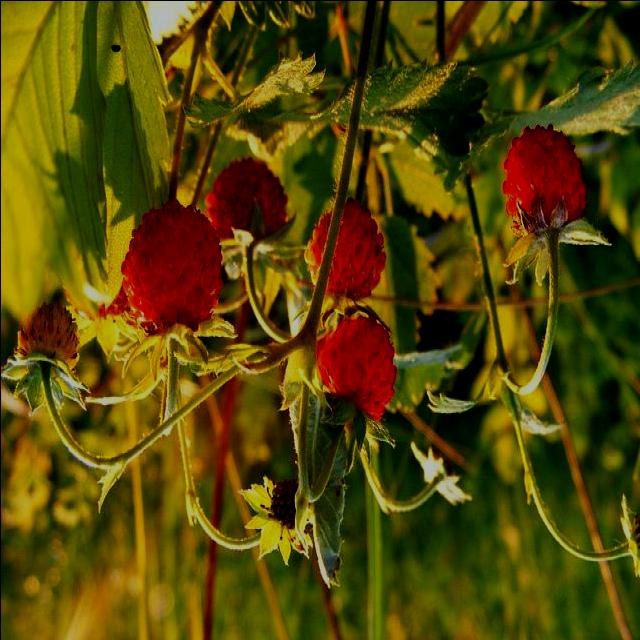ripe: (119, 195, 227, 343), (486, 109, 594, 256), (309, 306, 403, 429), (302, 198, 389, 310), (204, 166, 288, 254)
unripe: (254, 463, 327, 561), (13, 289, 88, 384)
